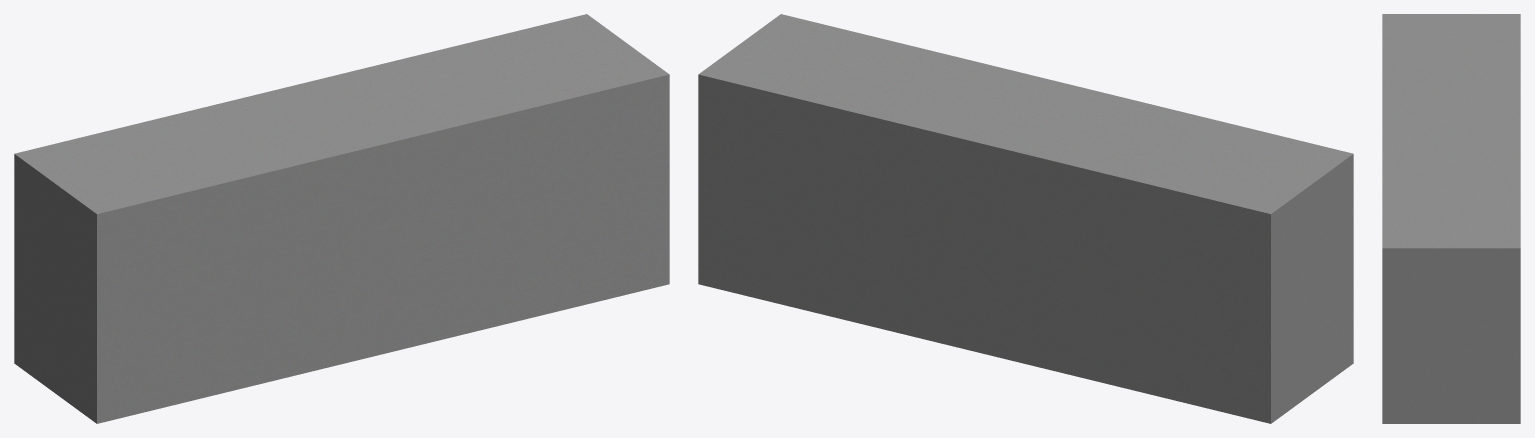
The model's file is ashibaHigh.fbx.
3 renders of one model, left to right at view 1: azimuth 30°, elevation 25°; view 2: azimuth 150°, elevation 25°; view 3: azimuth 270°, elevation 25°, orthographic. The views are drawn at different scales.
Visible parts, largest first — view 1: asibaHigh; view 2: asibaHigh; view 3: asibaHigh.
Part boxes in pixels (x1,y1,x2,y2): asibaHigh: [14, 14, 669, 423]; asibaHigh: [698, 14, 1353, 423]; asibaHigh: [1382, 14, 1520, 423].
Size of the model in its own units: 1000 by 250 by 350.
1 material, 1 textured.
